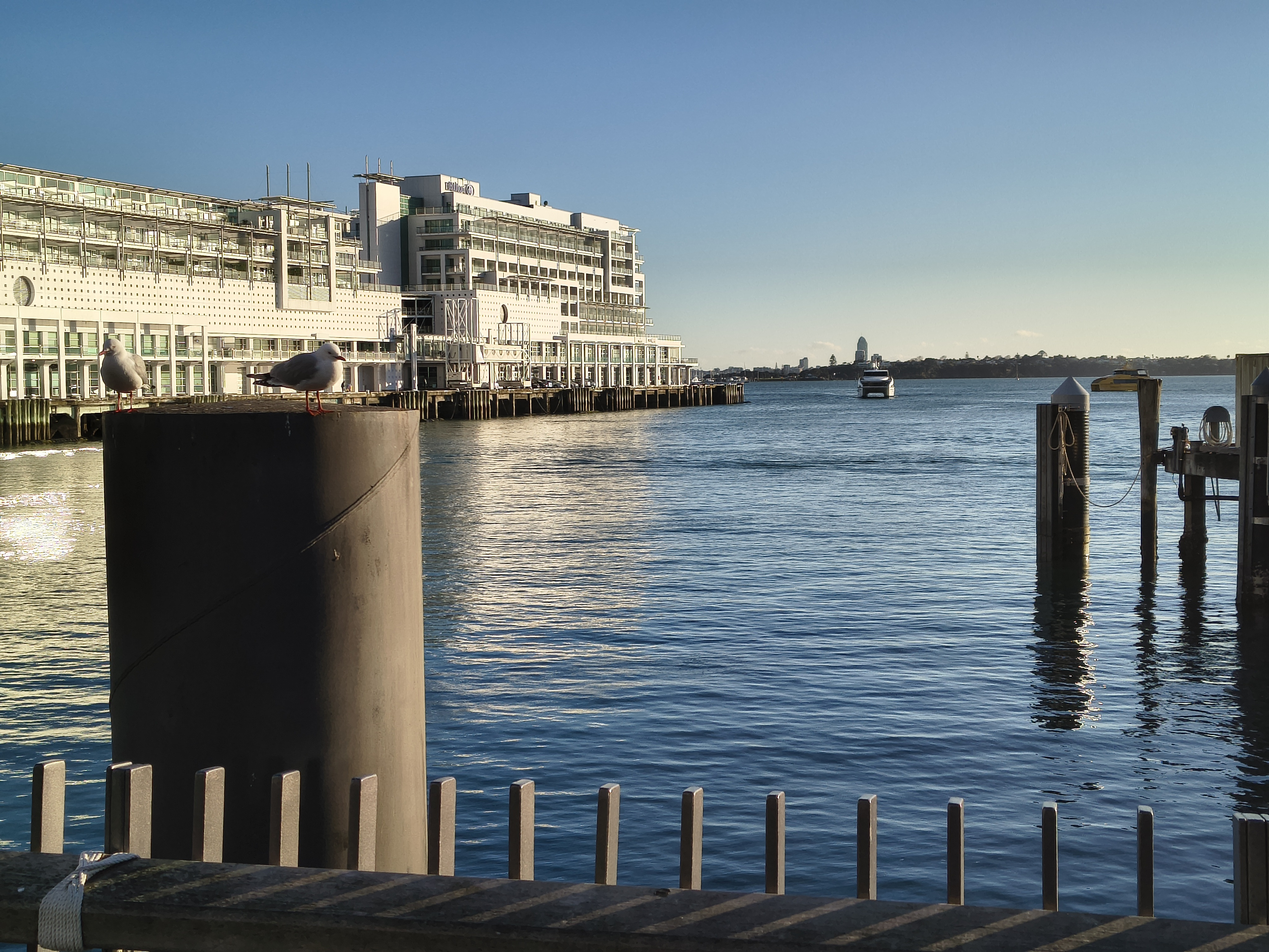ferry: (857, 370, 895, 397)
